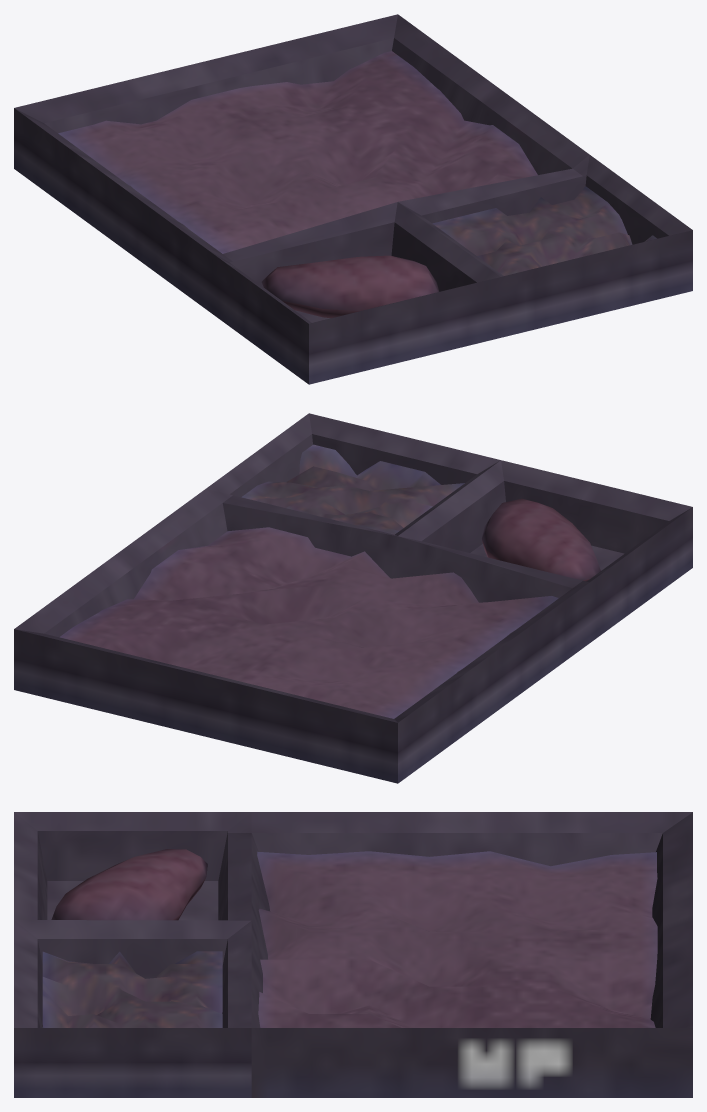
Rendered from MealPrep_Burnt.fbx.
3 renders of one model, top to bottom at view 1: azimuth 30°, elevation 25°; view 2: azimuth 150°, elevation 25°; view 3: azimuth 270°, elevation 25°, orthographic. The views are drawn at different scales.
Visible parts, largest first — view 1: MealPrep_Box_Burnt; view 2: MealPrep_Box_Burnt; view 3: MealPrep_Box_Burnt.
Part boxes in pixels (x1=…): MealPrep_Box_Burnt: x1=14, y1=14, x2=692, y2=384; MealPrep_Box_Burnt: x1=14, y1=413, x2=692, y2=783; MealPrep_Box_Burnt: x1=14, y1=812, x2=692, y2=1097.
Size of the model in its own units: 93.76 by 14.19 by 125.
